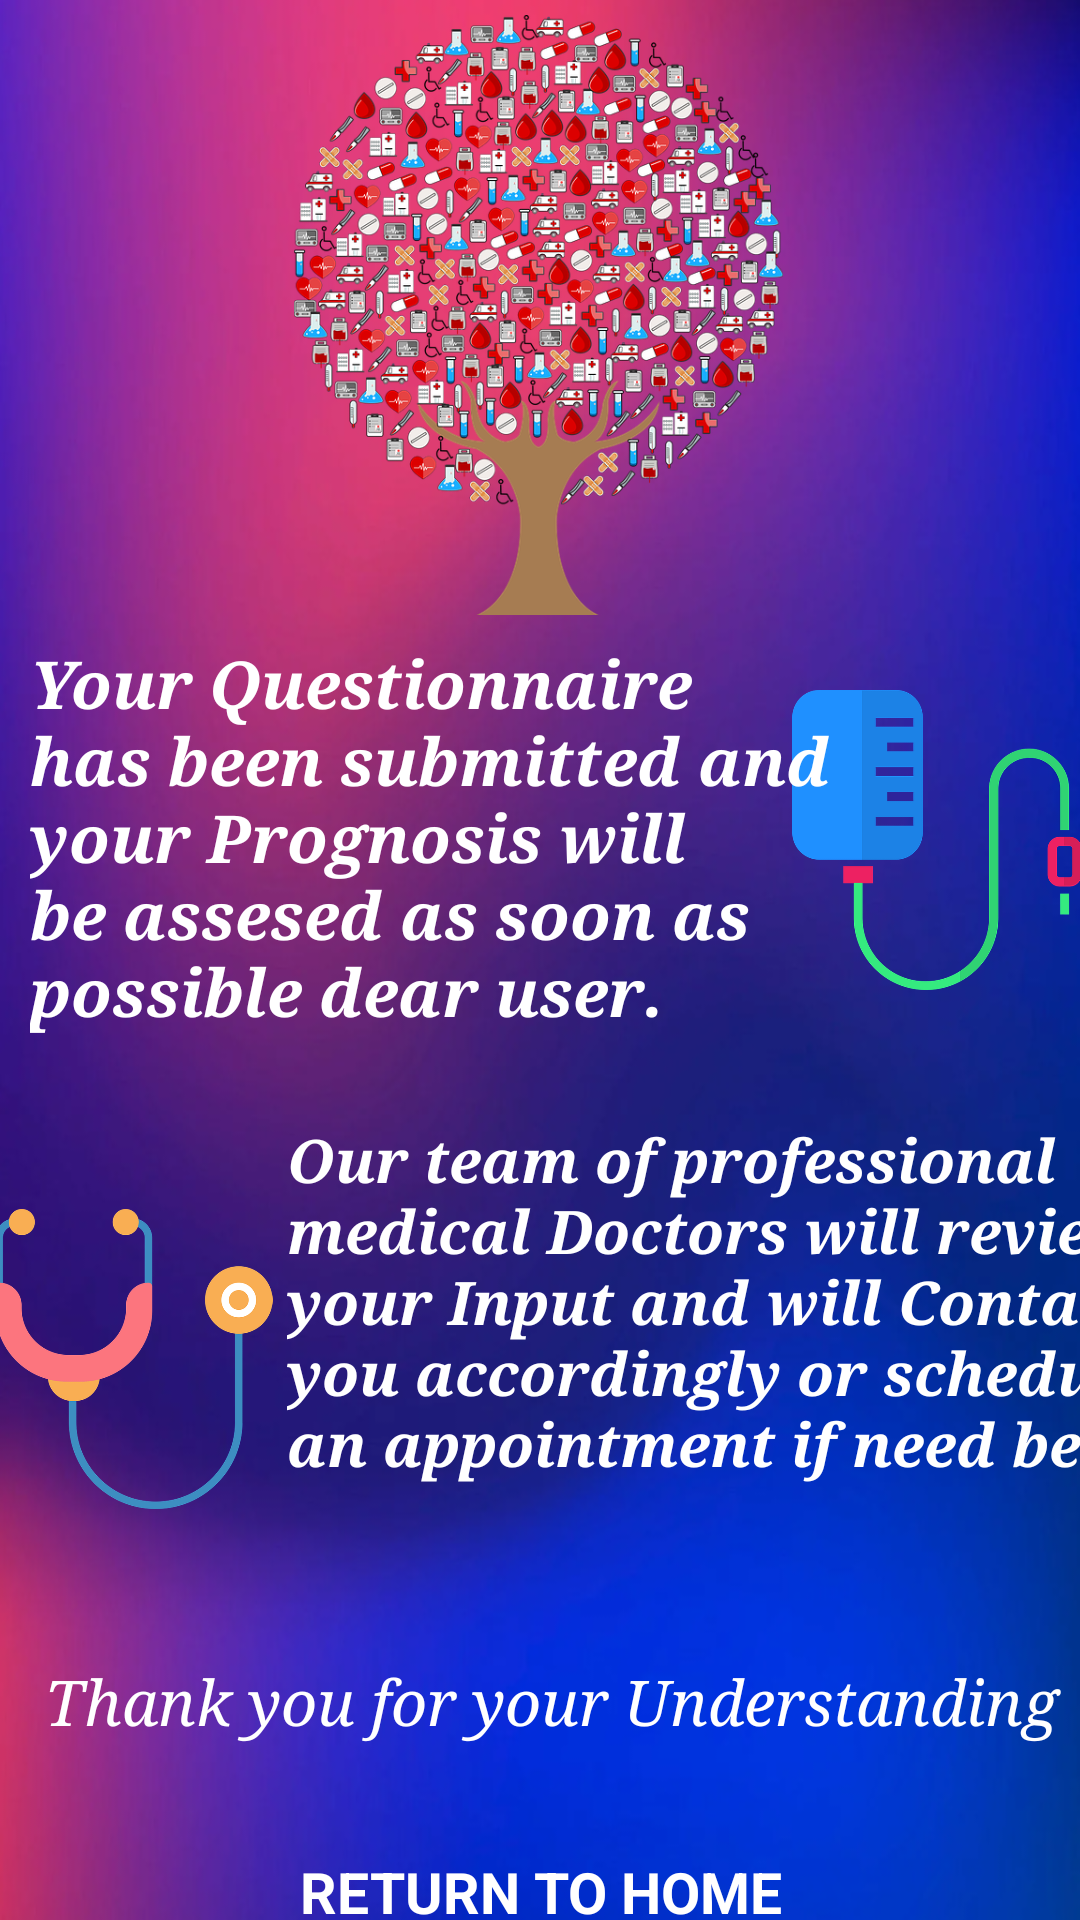

Named icons in this screenshot (1080px×1920px) and their centers, (x=x, y=y):
stethoscope: (x=136, y=1359)
transfusion: (x=933, y=840)
